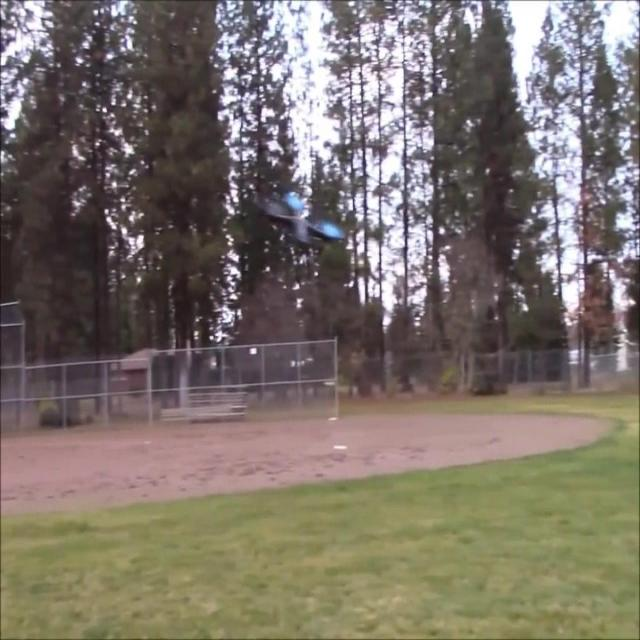drone: (256, 184, 350, 284)
